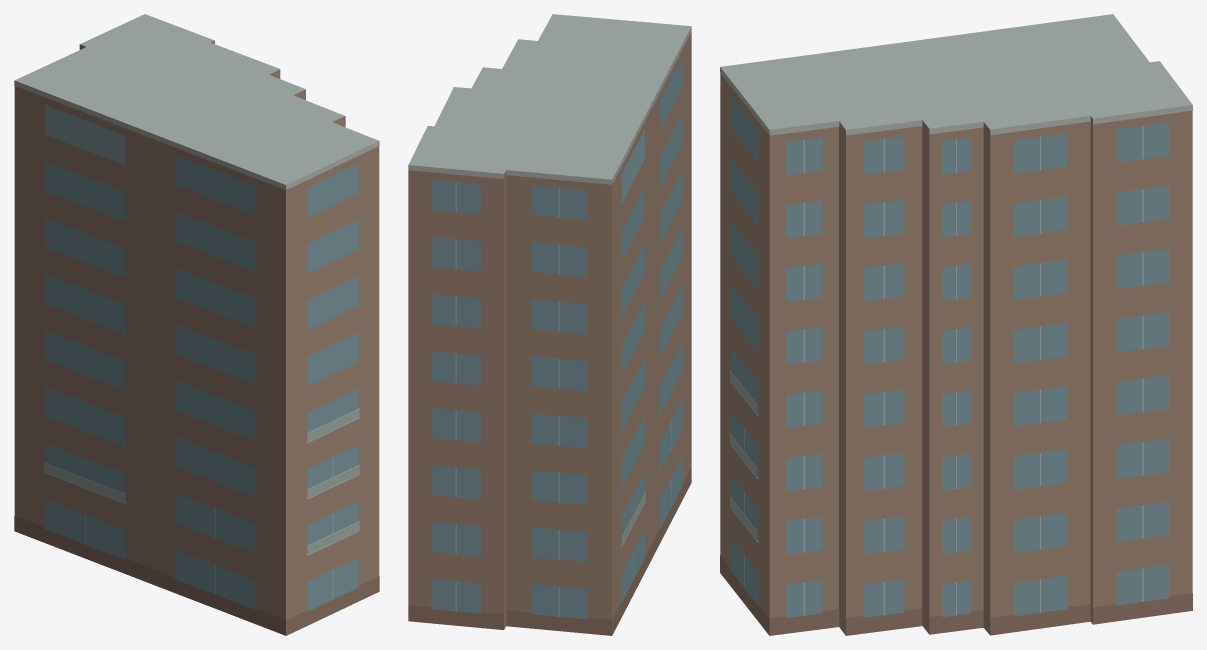
File: survey-upis-32565291.glb
The picture shows the model from 3 angles, left to right: view 1: azimuth 30°, elevation 25°; view 2: azimuth 150°, elevation 25°; view 3: azimuth 270°, elevation 25°; orthographic projection. The views are drawn at different scales.
Visible parts, largest first — view 1: survey-upis-32565291.tmp; view 2: survey-upis-32565291.tmp; view 3: survey-upis-32565291.tmp.
Boxes of the visible parts, x1=… form: survey-upis-32565291.tmp: x1=14, y1=14, x2=379, y2=635; survey-upis-32565291.tmp: x1=408, y1=14, x2=691, y2=635; survey-upis-32565291.tmp: x1=720, y1=14, x2=1192, y2=635.
Size of the model in its own units: 10.63 by 21.6 by 18.3.
